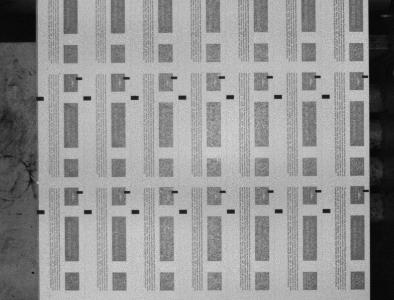backgroundclutter: (36, 181, 39, 184)
qblock: (131, 209, 140, 214), (179, 209, 187, 214), (131, 95, 139, 100), (274, 94, 282, 99), (36, 96, 44, 101), (322, 94, 330, 99), (84, 210, 92, 214), (275, 209, 283, 213), (323, 209, 331, 213), (227, 209, 235, 213), (37, 210, 45, 214), (179, 95, 187, 99), (83, 96, 91, 100), (227, 95, 234, 99)
smallqblock: (124, 190, 131, 194), (267, 75, 273, 79), (124, 76, 130, 80), (77, 190, 83, 194), (363, 189, 370, 192), (219, 76, 226, 79), (172, 190, 179, 193), (171, 76, 178, 79), (363, 75, 369, 78), (315, 75, 321, 78), (76, 77, 82, 80), (268, 190, 274, 193), (220, 190, 226, 193), (316, 189, 322, 192)
